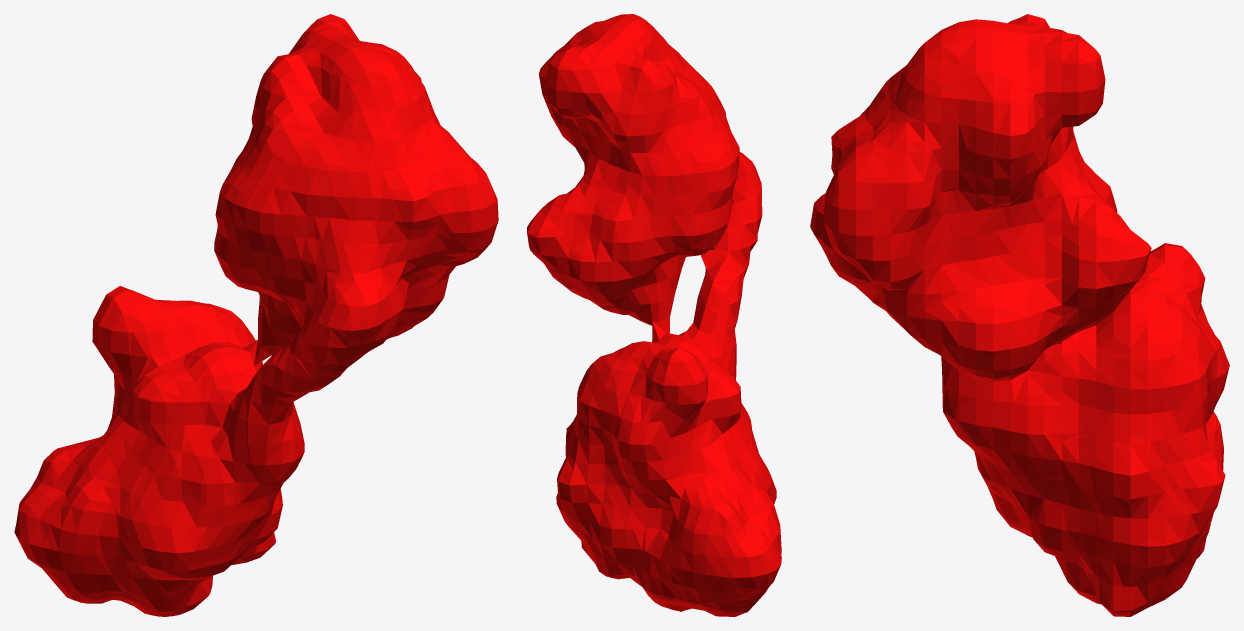
Rendered from modF_coarse.dae.
The picture shows the model from 3 angles, left to right: view 1: azimuth 30°, elevation 25°; view 2: azimuth 150°, elevation 25°; view 3: azimuth 270°, elevation 25°; orthographic projection. The views are drawn at different scales.
Visible parts, largest first — view 1: modF; view 2: modF; view 3: modF.
Boxes of the visible parts, x1,y1,x2,y2 form: modF: (14, 14, 498, 616); modF: (527, 14, 781, 616); modF: (810, 14, 1229, 616).
Bounding box in the file's own units: 67.96 × 111 × 64.69.
